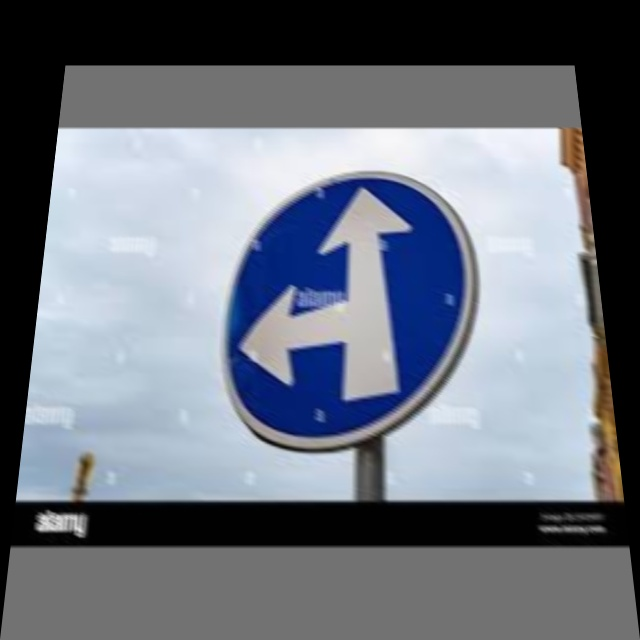Compulsory_Ahead_or_Turn_Left: (225, 173, 483, 443)
